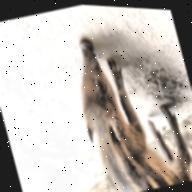boar: (63, 22, 192, 192)
